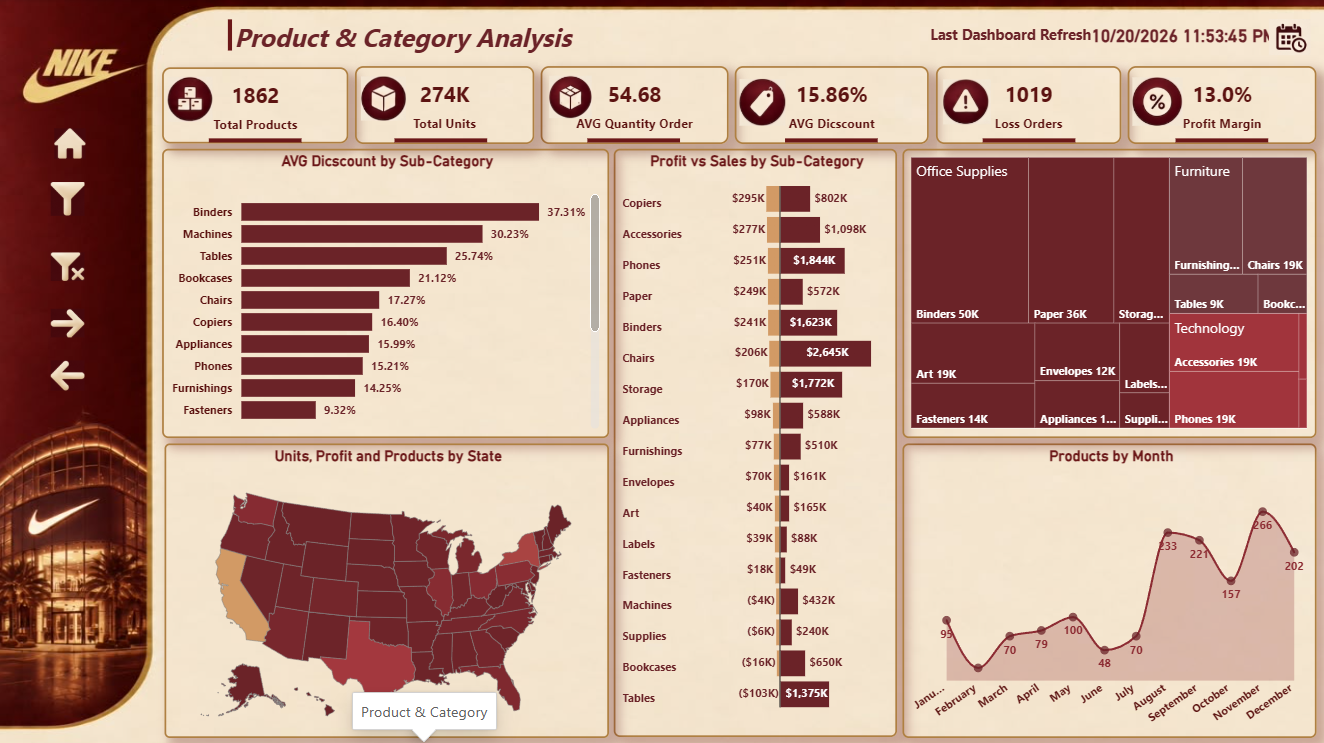

This screenshot's page, from the dashboard's own definition file:
{"tool":"powerbi","page":{"name":"Product & Category","canvas":[1280,720],"ordinal":2},"visuals":[{"type":"card","fields":{"Values":["DAX_Measures.Total Products"]},"box":[158,66.4,179.8,73.6],"z":0},{"type":"card","fields":{"Values":["DAX_Measures.AVG Quantity Order"]},"box":[522.4,65.1,181,74.8],"z":1000},{"type":"card","fields":{"Values":["DAX_Measures.AVG Dicscount"]},"box":[709.4,65.1,187,74.8],"z":2000},{"type":"card","fields":{"Values":["DAX_Measures.Loss Orders"]},"box":[903.6,65.1,178.6,74.8],"z":3000},{"type":"card","fields":{"Values":["DAX_Measures.Profit Margin"]},"box":[1088.2,65.1,182.2,74.8],"z":4000},{"type":"card","fields":{"Values":["DAX_Measures.total Units"]},"box":[343.8,65.1,172.5,74.8],"z":5000},{"type":"shape","box":[206.3,19.3,33.8,30.2],"z":6000},{"type":"textbox","box":[223.2,14.5,365.6,42.2],"z":7000},{"type":"card","fields":{"Values":["DAX_Measures.System Time"]},"box":[1041.2,16.9,202.7,37.4],"z":8000},{"type":"textbox","box":[892.8,19.3,174.9,35],"z":9000},{"type":"image","box":[1224.5,14.5,39.8,43.4],"z":10000},{"type":"TornadoChart1452517688218","title":" Profit vs Sales by Sub-Category","fields":{"Values":["DAX_Measures.Total Profit","DAX_Measures.Total Sales"],"Category":["Dim_Sub-Category.Sub-Category"]},"box":[593.6,144.8,272.7,567],"z":11000},{"type":"stackedAreaChart","title":"Products by Month","fields":{"Category":["Fact_Orders.Order Date.Variation.Date Hierarchy.Year","Fact_Orders.Order Date.Variation.Date Hierarchy.Quarter","Fact_Orders.Order Date.Variation.Date Hierarchy.Month","Fact_Orders.Order Date.Variation.Date Hierarchy.Day"],"Y":["DAX_Measures.Total Units"]},"box":[871.1,428.3,399.3,283.5],"z":12000},{"type":"clusteredBarChart","fields":{"Category":["Dim_Sub-Category.Sub-Category"],"Y":["DAX_Measures.AVG Dicscount"]},"box":[158,144.8,430.7,278.7],"z":13000},{"type":"treemap","fields":{"Details":["Dim_Sub-Category.Sub-Category"],"Group":["Dim_Categores.Category"],"Values":["DAX_Measures.Total Units"]},"box":[871.1,144.8,399.3,278.7],"z":14000},{"type":"shapeMap","title":" Units, Profit and  Products by State","fields":{"Category":["Dim_Country.State"],"Value":["DAX_Measures.Total Units"]},"box":[160.5,428.3,428.3,283.5],"z":15000},{"type":"shape","box":[202.7,120.6,89.3,30.2],"z":16000},{"type":"shape","box":[382.4,120.6,89.3,30.2],"z":17000},{"type":"shape","box":[568.2,120.6,89.3,30.2],"z":18000},{"type":"shape","box":[758.9,120.6,89.3,30.2],"z":19000},{"type":"shape","box":[948.3,120.6,89.3,30.2],"z":20000},{"type":"shape","box":[1134.1,120.6,89.3,30.2],"z":21000},{"type":"image","box":[910.9,71.2,45.8,55.5],"z":22000},{"type":"image","box":[349.9,70,43.4,50.7],"z":23000},{"type":"image","box":[1093,70,48.3,56.7],"z":24000},{"type":"image","box":[714.2,76,44.6,47.1],"z":25000},{"type":"image","box":[528.4,73.6,45.8,41],"z":26000},{"type":"image","box":[161.7,74.8,47.1,43.4],"z":27000},{"type":"image","box":[53.8,115,30,47.5],"z":28000},{"type":"image","box":[51.2,170,32.5,46.2],"z":29000},{"type":"image","box":[51.2,236.2,32.5,42.5],"z":30000},{"type":"image","box":[51.2,293.8,32.5,36.2],"z":31000},{"type":"image","box":[51.2,343.8,32.5,37.5],"z":32000}]}

Visuals, with their boxes in screenshot pixels (x1, y1, x2, y2), scaled from the page's 1280x720 canvas onto the 1324x743 screenshot:
card - DAX_Measures.Total Products: rect(163, 69, 349, 144)
card - DAX_Measures.AVG Quantity Order: rect(540, 67, 728, 144)
card - DAX_Measures.AVG Dicscount: rect(734, 67, 927, 144)
card - DAX_Measures.Loss Orders: rect(935, 67, 1119, 144)
card - DAX_Measures.Profit Margin: rect(1126, 67, 1314, 144)
card - DAX_Measures.total Units: rect(356, 67, 534, 144)
shape: rect(213, 20, 248, 51)
textbox: rect(231, 15, 609, 59)
card - DAX_Measures.System Time: rect(1077, 17, 1287, 56)
textbox: rect(923, 20, 1104, 56)
image: rect(1267, 15, 1308, 60)
" Profit vs Sales by Sub-Category" TornadoChart1452517688218: rect(614, 149, 896, 735)
"Products by Month" stackedAreaChart: rect(901, 442, 1314, 735)
clusteredBarChart - Dim_Sub-Category.Sub-Category x DAX_Measures.AVG Dicscount: rect(163, 149, 609, 437)
treemap - Dim_Sub-Category.Sub-Category x Dim_Categores.Category: rect(901, 149, 1314, 437)
" Units, Profit and  Products by State" shapeMap: rect(166, 442, 609, 735)
shape: rect(210, 124, 302, 156)
shape: rect(396, 124, 488, 156)
shape: rect(588, 124, 680, 156)
shape: rect(785, 124, 877, 156)
shape: rect(981, 124, 1073, 156)
shape: rect(1173, 124, 1265, 156)
image: rect(942, 73, 990, 131)
image: rect(362, 72, 407, 125)
image: rect(1131, 72, 1181, 131)
image: rect(739, 78, 785, 127)
image: rect(547, 76, 594, 118)
image: rect(167, 77, 216, 122)
image: rect(56, 119, 87, 168)
image: rect(53, 175, 87, 223)
image: rect(53, 244, 87, 288)
image: rect(53, 303, 87, 341)
image: rect(53, 355, 87, 393)
